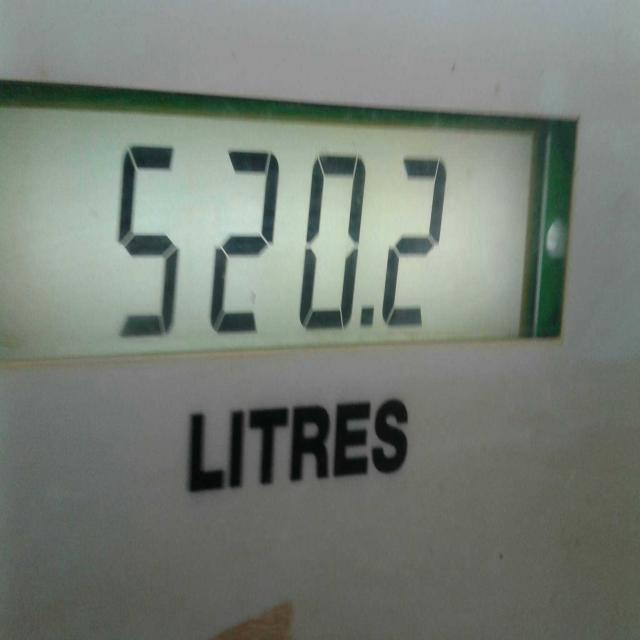.: (359, 299, 380, 333)
0: (302, 149, 366, 331)
2: (213, 148, 280, 341), (384, 158, 446, 326)
5: (113, 140, 179, 339)
screen: (0, 76, 570, 360)
